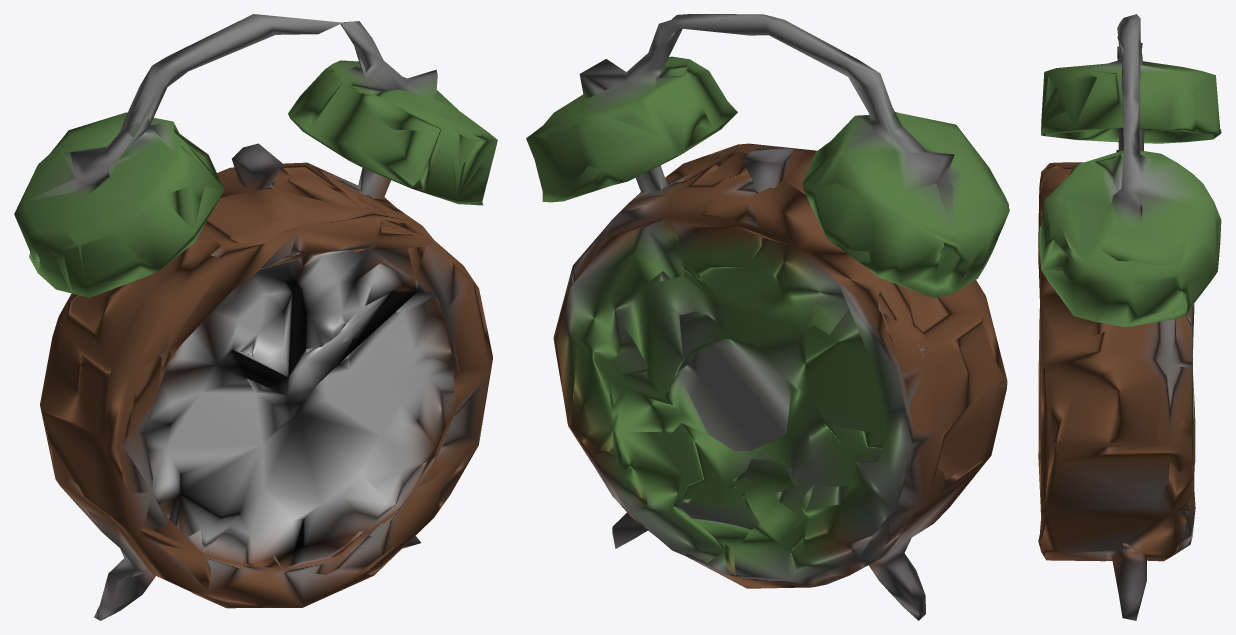
The model's file is gen3d-alarm-clock-lod0.glb.
The picture shows the model from 3 angles, left to right: view 1: azimuth 30°, elevation 25°; view 2: azimuth 150°, elevation 25°; view 3: azimuth 270°, elevation 25°; orthographic projection. The views are drawn at different scales.
Parts seen in each view (by area): view 1: part_0; view 2: part_0; view 3: part_0.
Boxes of the visible parts, x1,y1,x2,y2 form: part_0: (14, 14, 497, 620); part_0: (526, 14, 1009, 620); part_0: (1038, 14, 1221, 620).
Bounding box in the file's own units: 0.8157 × 0.9966 × 0.319.
